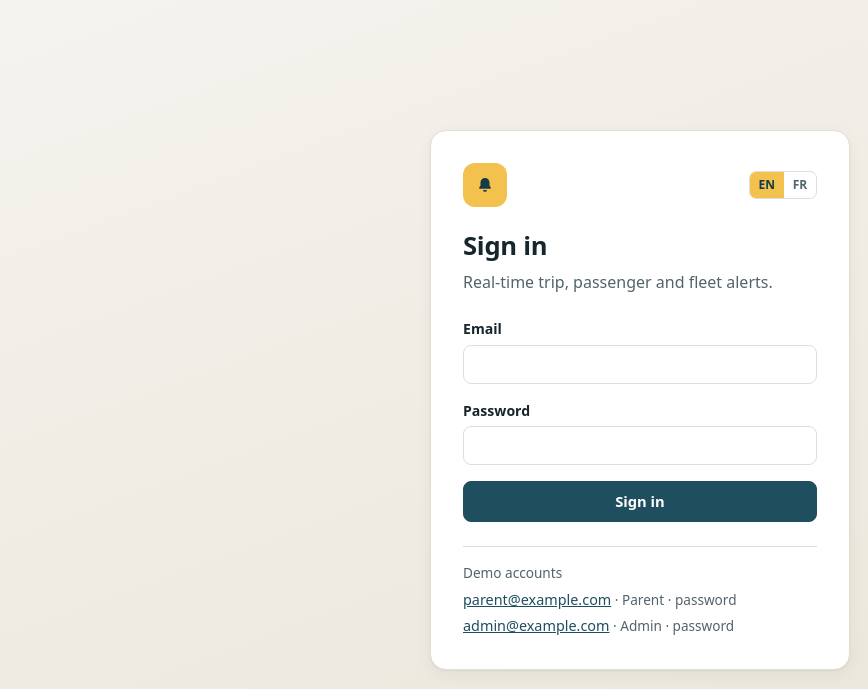
Test case: LoginPage › fills the form from a demo account
Click the button "admin@example.com" at (536, 626), box [463,615,610,636]
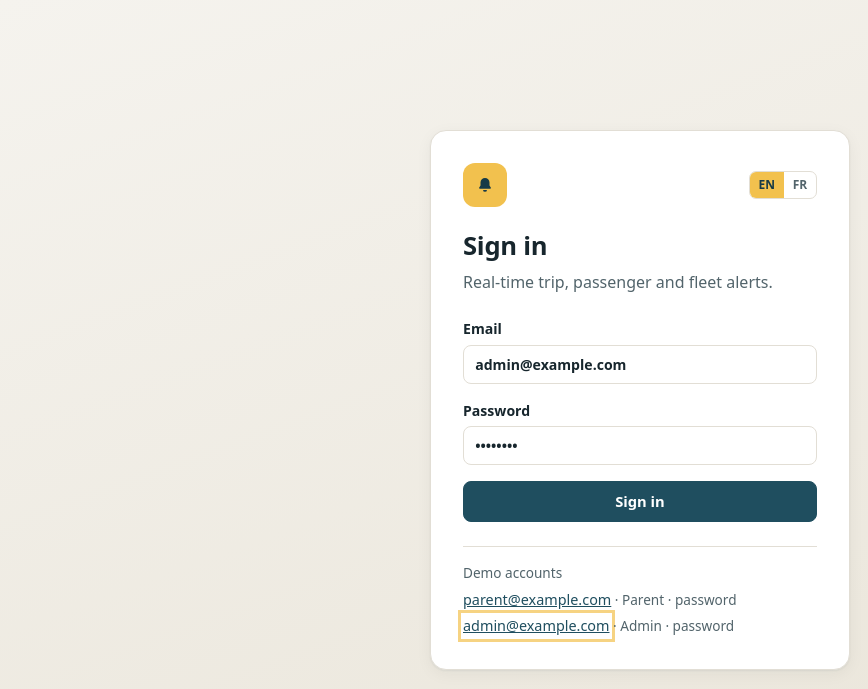
Check: the field labelled "Email" holds "admin@example.com", box [463,344,817,384]
Check: the password field labelled "Password" holds "password", box [463,426,817,466]
